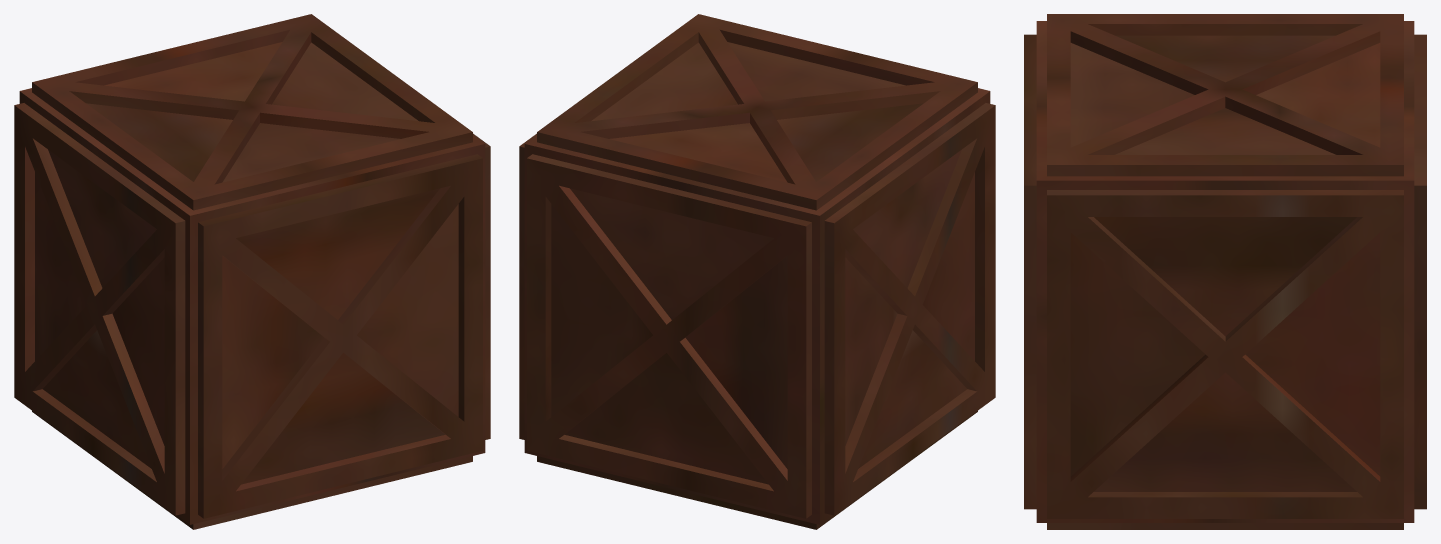
File: create.fbx
3 renders of one model, left to right at view 1: azimuth 30°, elevation 25°; view 2: azimuth 150°, elevation 25°; view 3: azimuth 270°, elevation 25°, orthographic. The views are drawn at different scales.
Parts seen in each view (by area): view 1: Cube.052; view 2: Cube.052; view 3: Cube.052.
Part boxes in pixels (x1,y1,x2,y2): Cube.052: (14,14,490,529); Cube.052: (519,14,995,529); Cube.052: (1024,14,1426,529).
Bounding box in the file's own units: 85.34 × 85.34 × 85.34.
